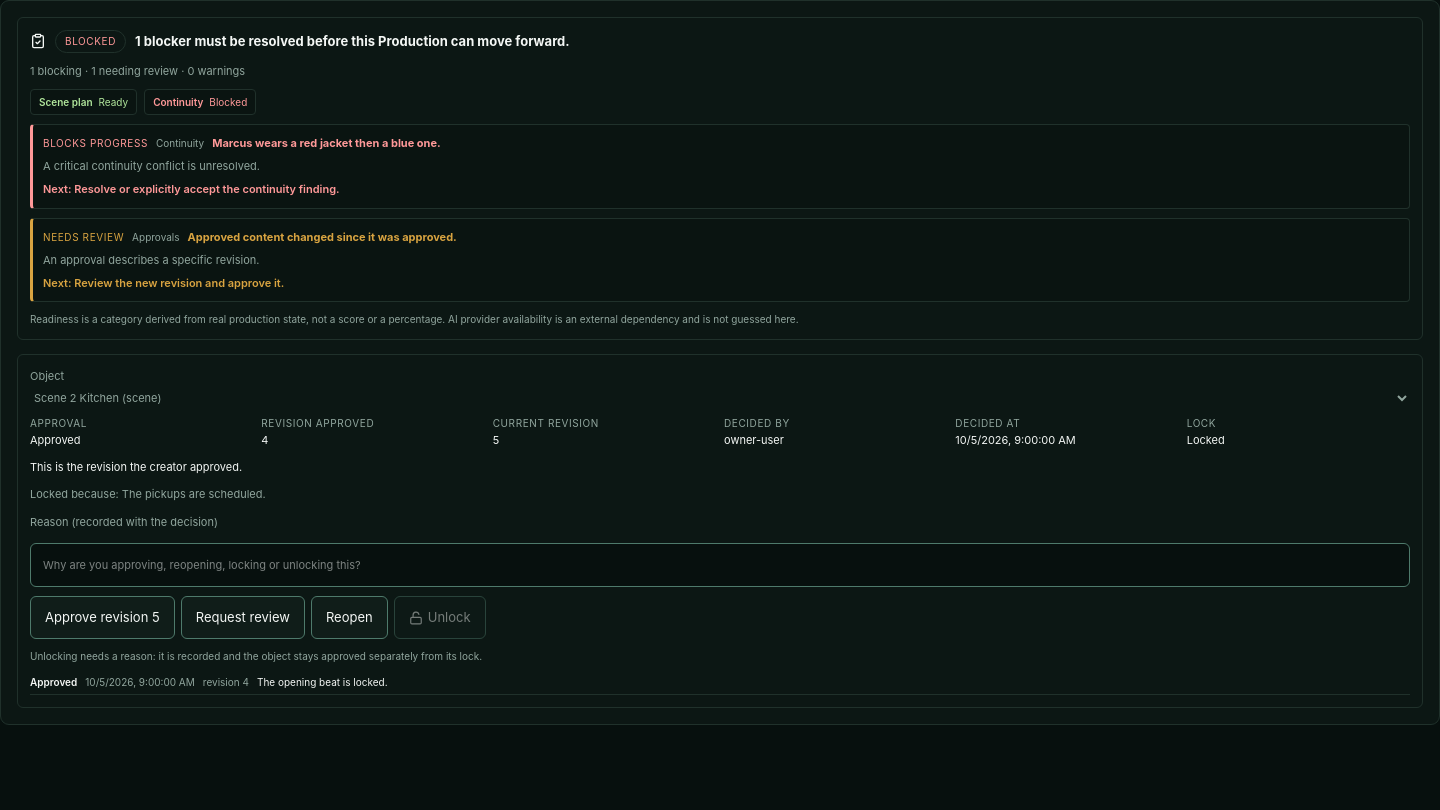
Test case: approval state › refuses to unlock without a reason and then records the explicit unlock
Check: the text "Locked because: The pickups are scheduled." is shown, box [30,487,266,501]
Check: the button "Unlock" is disabled, box [394,596,486,639]
Type "Unlocked for the reshoot." into the field named "Decision reason" at (720, 565), box [30,543,1410,587]
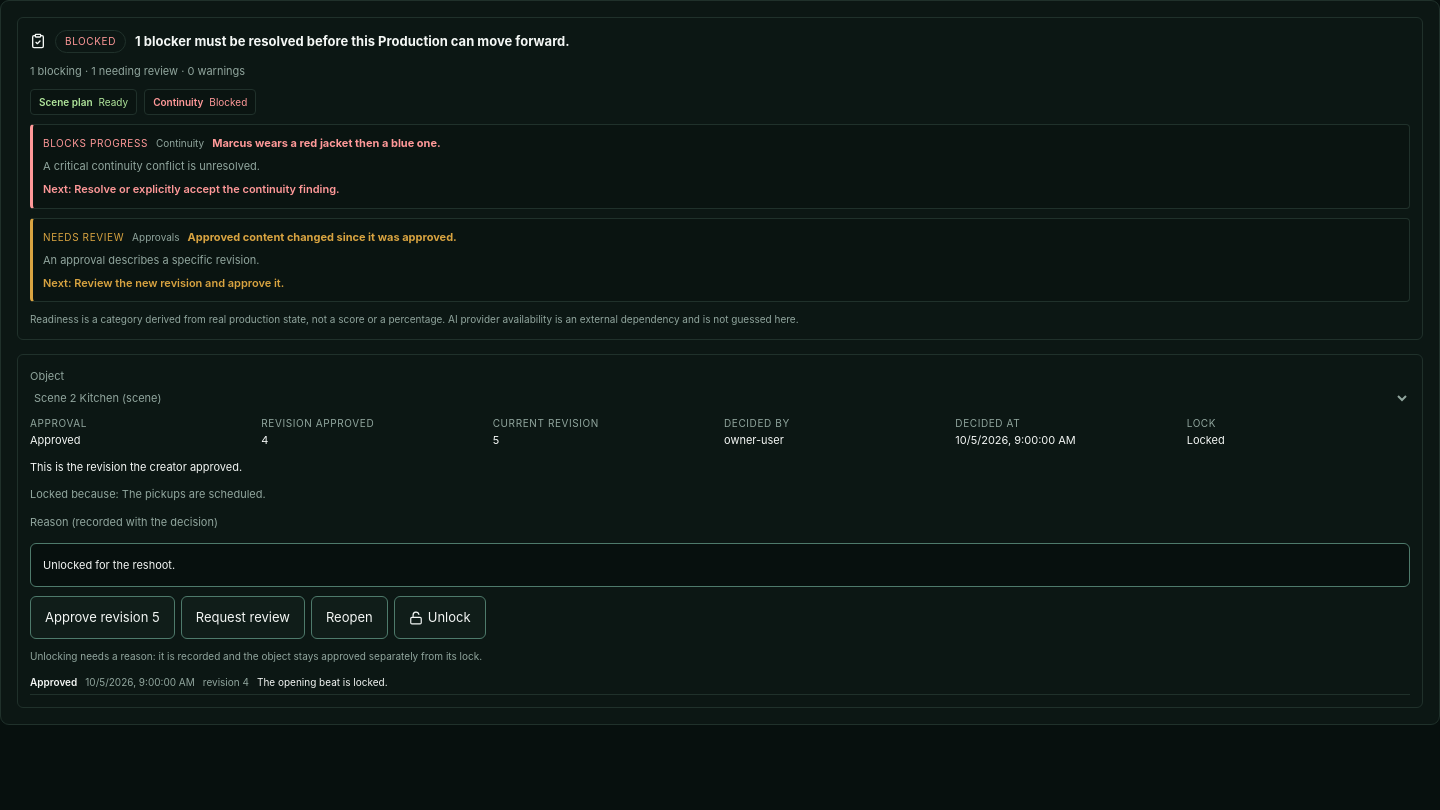
Check: the button "Unlock" is enabled
Click the button "Unlock" at (440, 618), box [394,596,486,639]
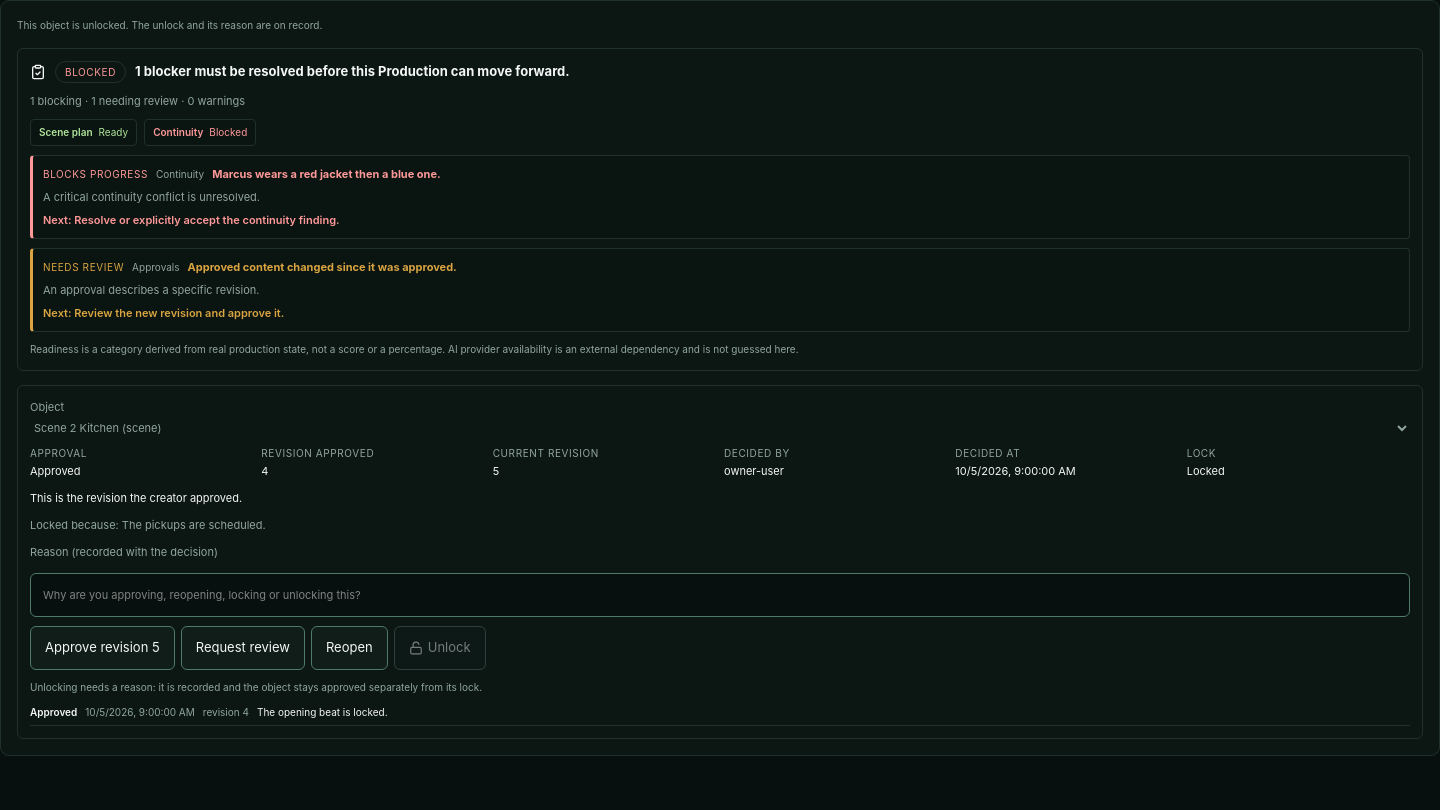
Check: the text "This object is unlocked. The unlock and its reason are on record." is shown, box [17,19,322,31]
